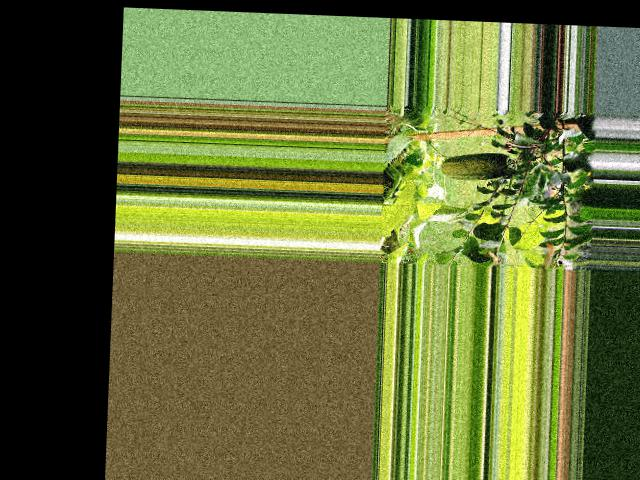cucumber: (440, 150, 517, 181)
